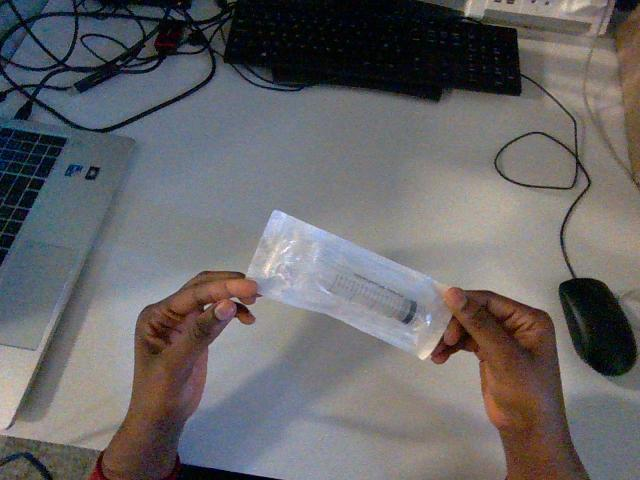syringe: (247, 210, 450, 358)
